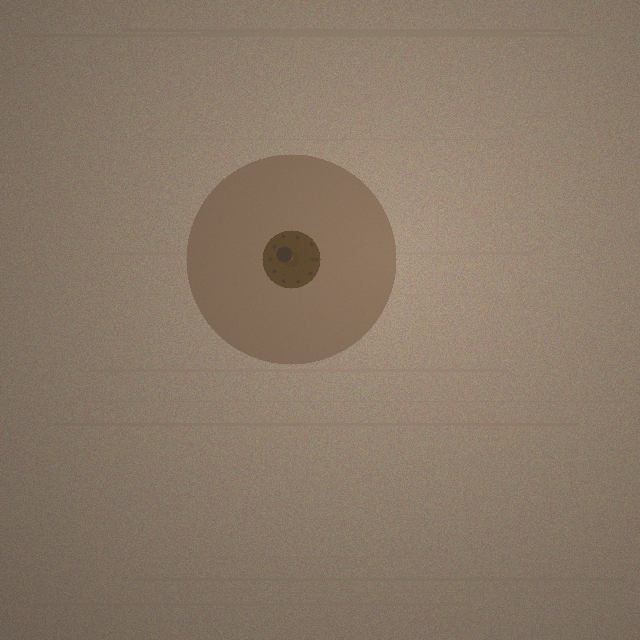cold_weld: (186, 154, 396, 364)
